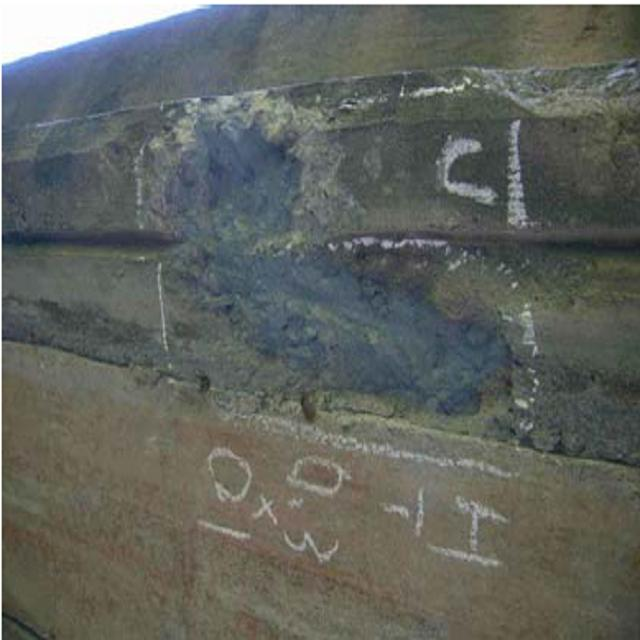spalling: (126, 119, 548, 444)
